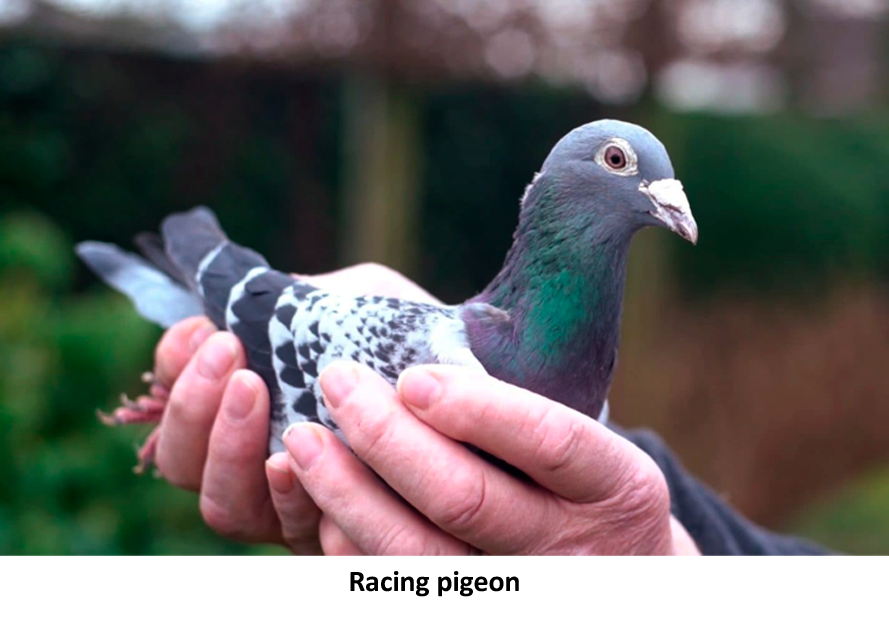Flying Rat: (187, 113, 706, 426)
